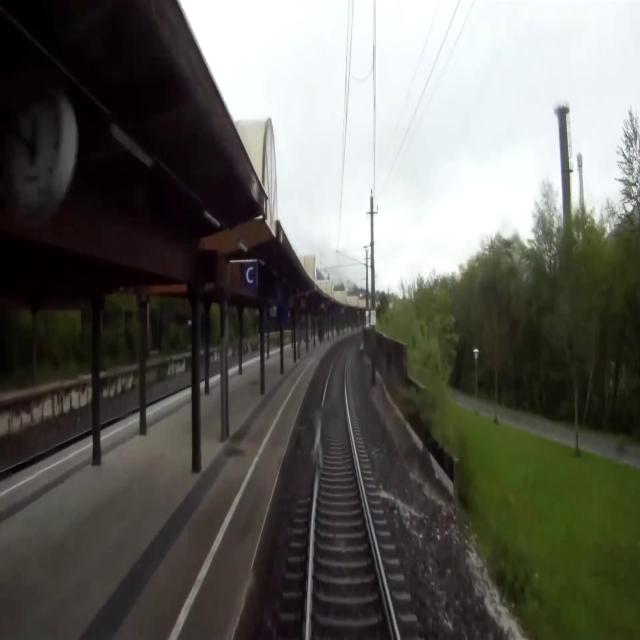rail-track: (310, 348, 396, 639)
